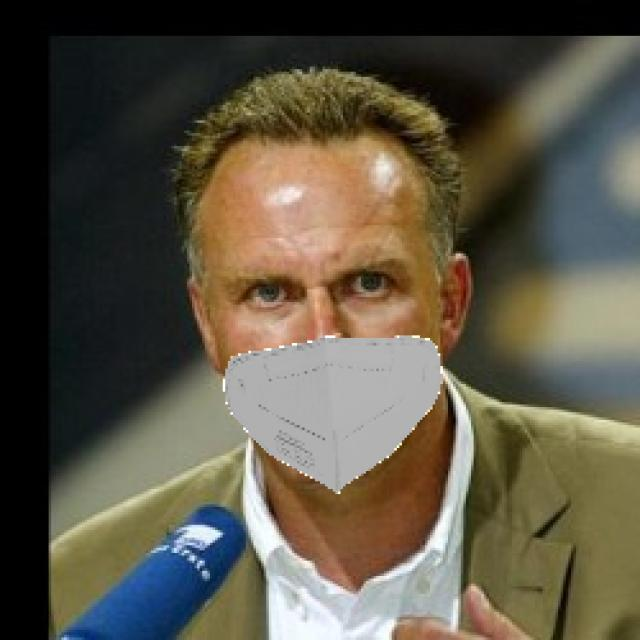mask: (210, 344, 462, 503)
